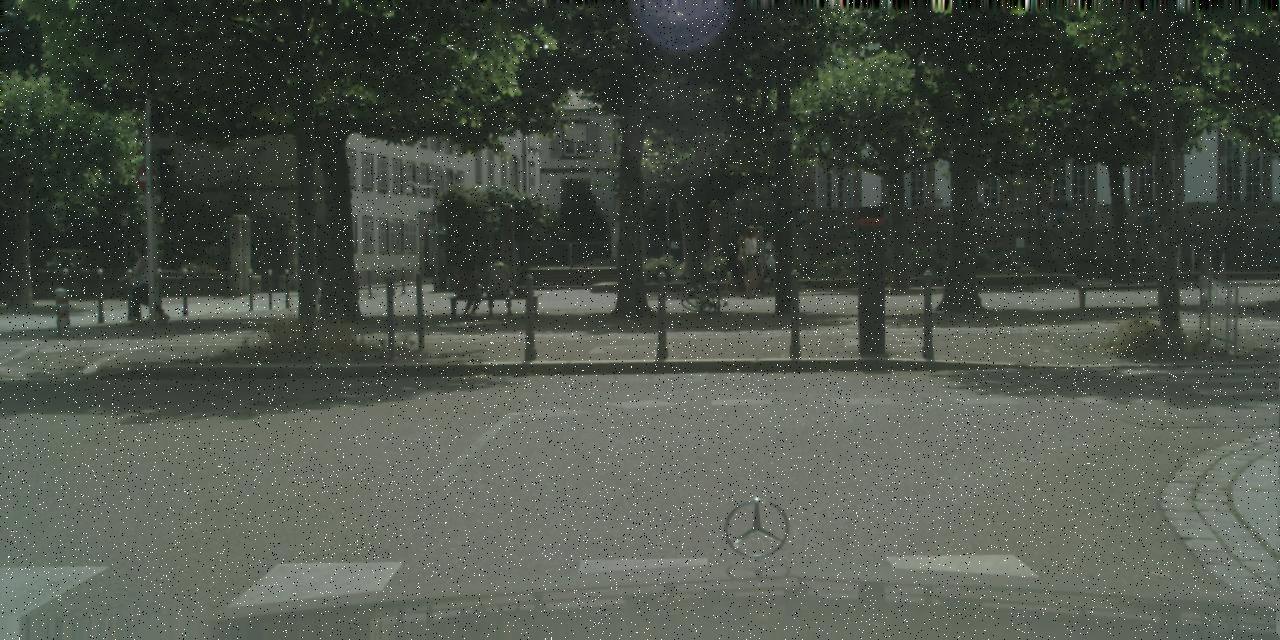ped: (128, 244, 160, 322), (742, 226, 772, 296), (736, 225, 764, 296), (725, 232, 750, 294), (758, 231, 782, 291), (770, 234, 794, 294)
